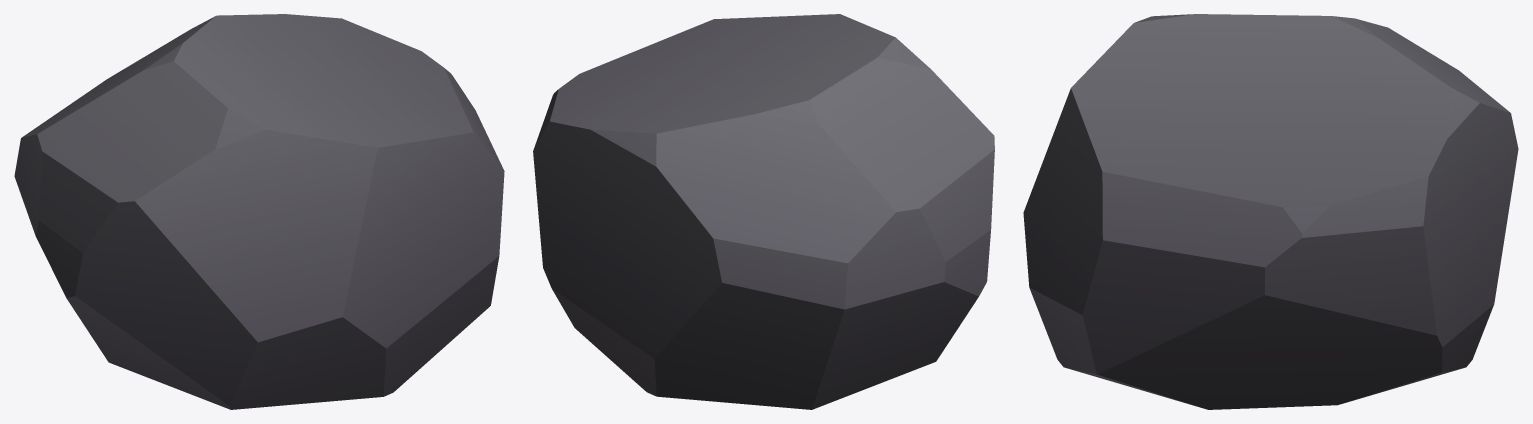
Rendered from Rock_03.glb.
3 views of the same model, side by side, from view 1: azimuth 30°, elevation 25°; view 2: azimuth 150°, elevation 25°; view 3: azimuth 270°, elevation 25° (orthographic). The views are drawn at different scales.
Visible parts, largest first — view 1: Rock_03_LOD0; view 2: Rock_03_LOD0; view 3: Rock_03_LOD0.
Part boxes in pixels (x1,y1,x2,y2): Rock_03_LOD0: [14, 14, 504, 409]; Rock_03_LOD0: [533, 14, 994, 409]; Rock_03_LOD0: [1023, 14, 1518, 409].
Size of what is drawn, in the model's own units: 0.9996 by 0.6339 by 0.9423.
Materials: 1 (1 with a texture image).
